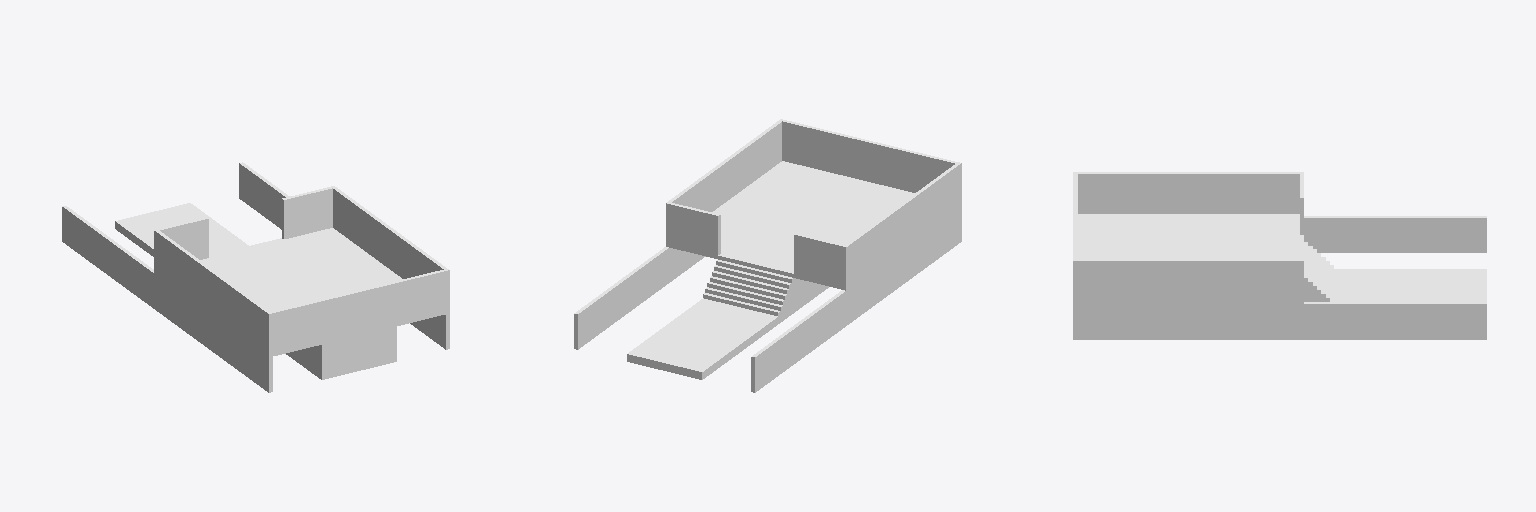
The model's file is metro_station.obj.
3 renders of one model, left to right at view 1: azimuth 30°, elevation 25°; view 2: azimuth 150°, elevation 25°; view 3: azimuth 270°, elevation 25°, orthographic.
Visible parts, largest first — view 1: metro_station; view 2: metro_station; view 3: metro_station.
Boxes of the visible parts, <box> form: metro_station: <box>62,162,449,392</box>; metro_station: <box>574,119,961,392</box>; metro_station: <box>1073,172,1486,339</box>.
Size of the model in its own units: 48 by 20 by 95.